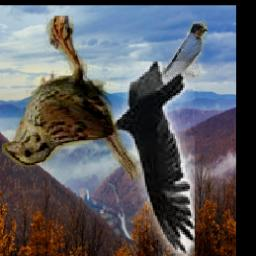Crow: (108, 63, 195, 256)
Sparrow: (2, 16, 144, 181)
Swallow: (142, 21, 207, 94)
